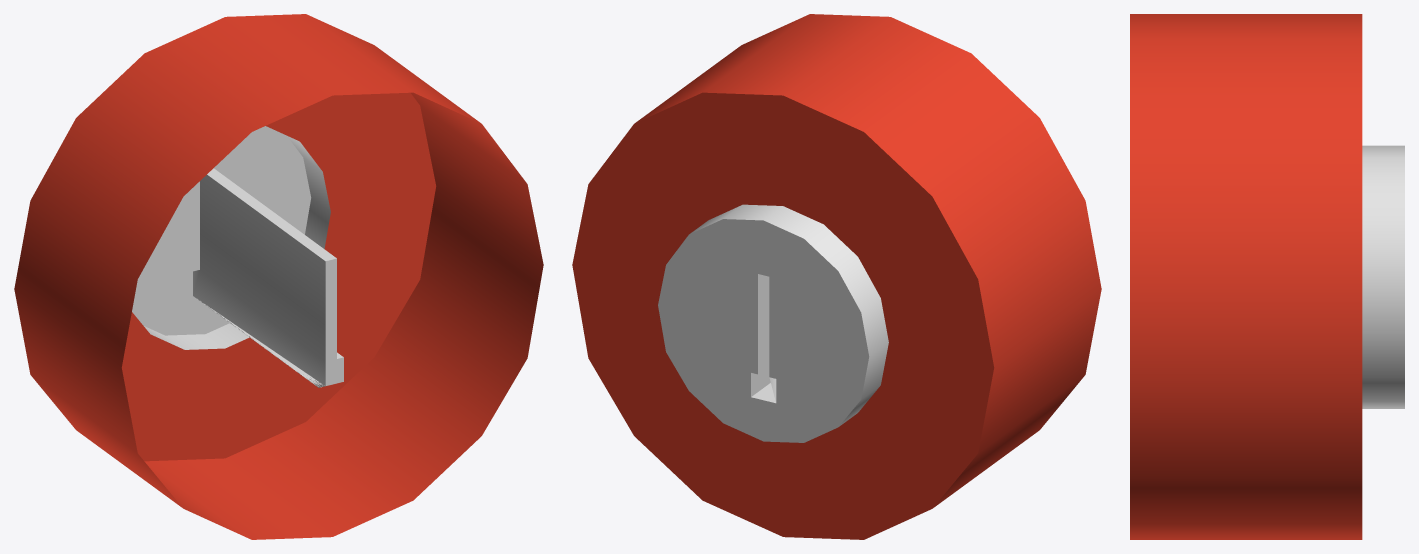
Rendered from lockbox.fbx.
3 views of the same model, side by side, from view 1: azimuth 30°, elevation 25°; view 2: azimuth 150°, elevation 25°; view 3: azimuth 270°, elevation 25° (orthographic). The views are drawn at different scales.
Visible parts, largest first — view 1: LockBox, Cylinder; view 2: LockBox, Cylinder; view 3: LockBox, Cylinder.
Part boxes in pixels (x1,y1,x2,y2): LockBox: [14, 14, 543, 539]; Cylinder: [132, 126, 343, 387]; LockBox: [572, 14, 1101, 539]; Cylinder: [658, 204, 888, 442]; LockBox: [1130, 14, 1362, 539]; Cylinder: [1362, 145, 1404, 408].
Size of the model in its own units: 23.97 by 23.97 by 12.5.
